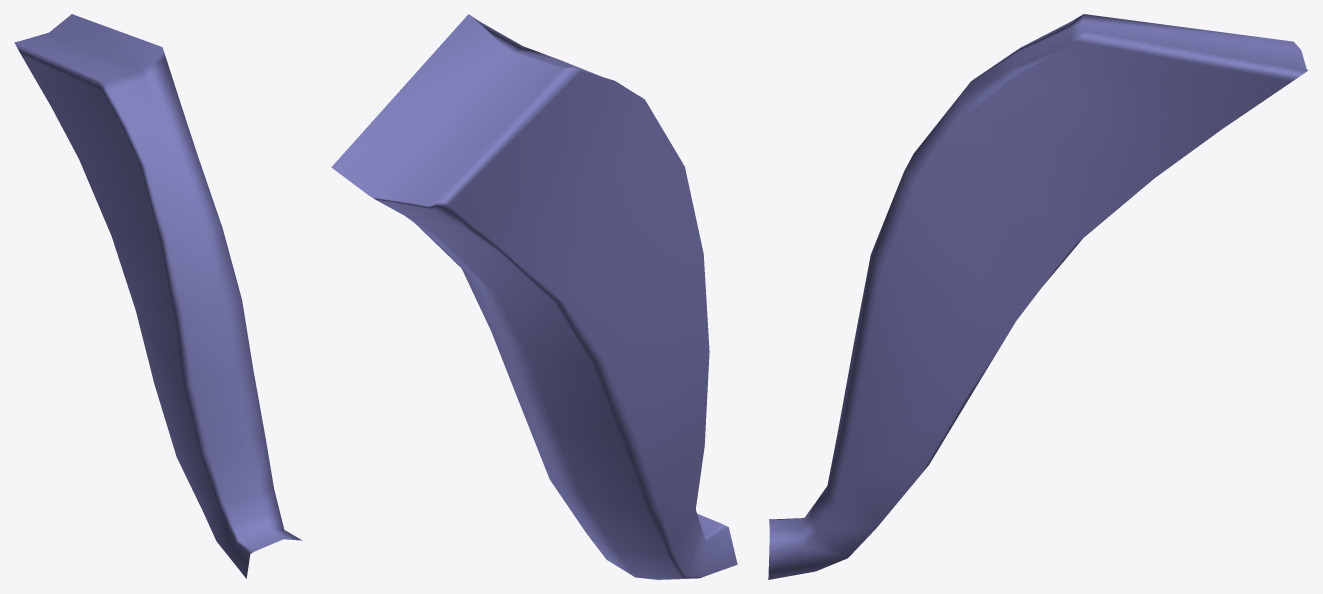
File: Hypothalamus_Trans.gltf
3 renders of one model, left to right at view 1: azimuth 30°, elevation 25°; view 2: azimuth 150°, elevation 25°; view 3: azimuth 270°, elevation 25°, orthographic. The views are drawn at different scales.
Parts seen in each view (by area): view 1: Hypothalamus; view 2: Hypothalamus; view 3: Hypothalamus.
Part boxes in pixels (<box>): Hypothalamus: <box>14,14,302,578</box>; Hypothalamus: <box>331,14,737,579</box>; Hypothalamus: <box>768,14,1307,579</box>.
Bounding box in the file's own units: 0.6017 × 2.93 × 2.62.
